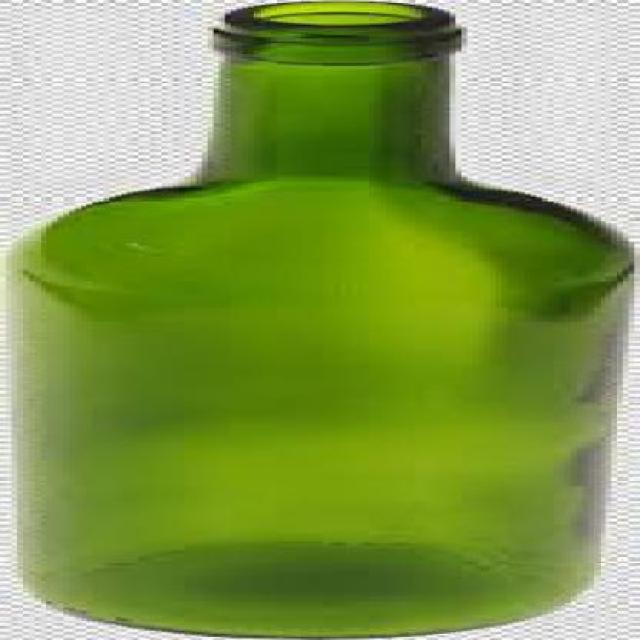kaca: (6, 0, 633, 638)
